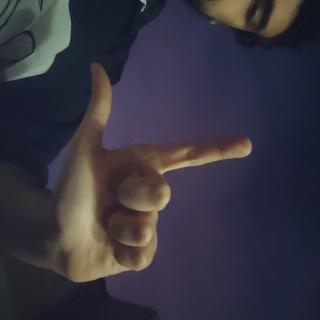LAAM: (39, 80, 217, 320)
